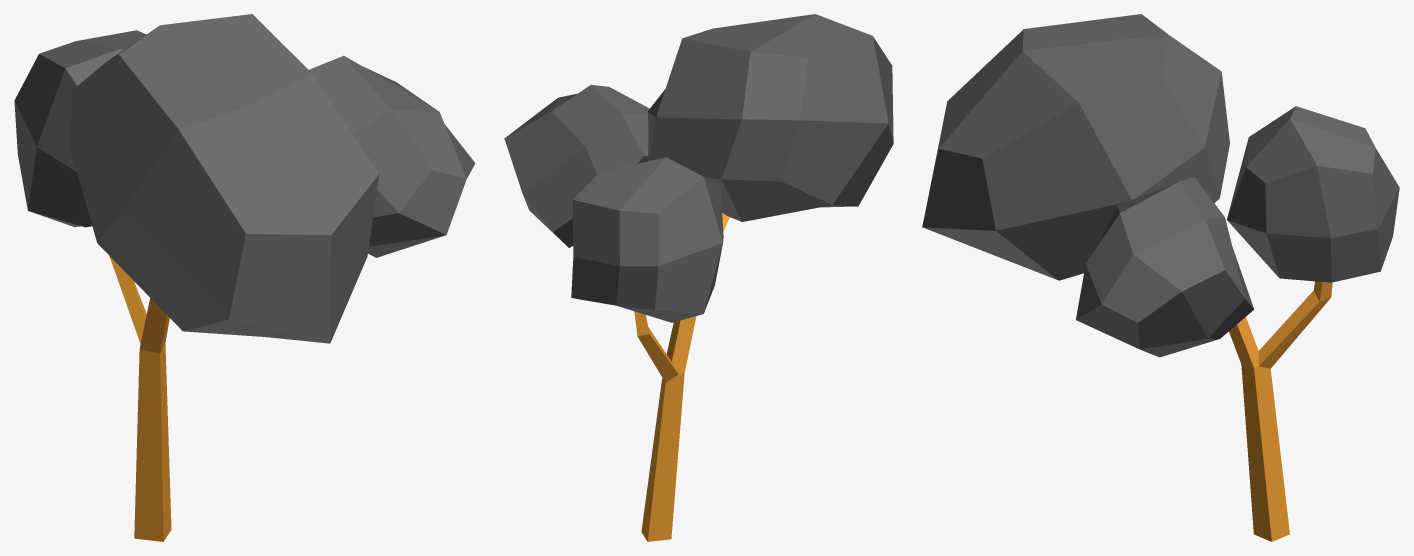
The model's file is oak_3.obj.
The picture shows the model from 3 angles, left to right: view 1: azimuth 30°, elevation 25°; view 2: azimuth 150°, elevation 25°; view 3: azimuth 270°, elevation 25°; orthographic projection. The views are drawn at different scales.
Parts seen in each view (by area): view 1: oak_3; view 2: oak_3; view 3: oak_3.
Boxes of the visible parts, x1,y1,x2,y2 form: oak_3: (14,14,475,541); oak_3: (504,14,893,541); oak_3: (922,14,1399,541).
Size of the model in its own units: 27.53 by 37.07 by 33.59.
